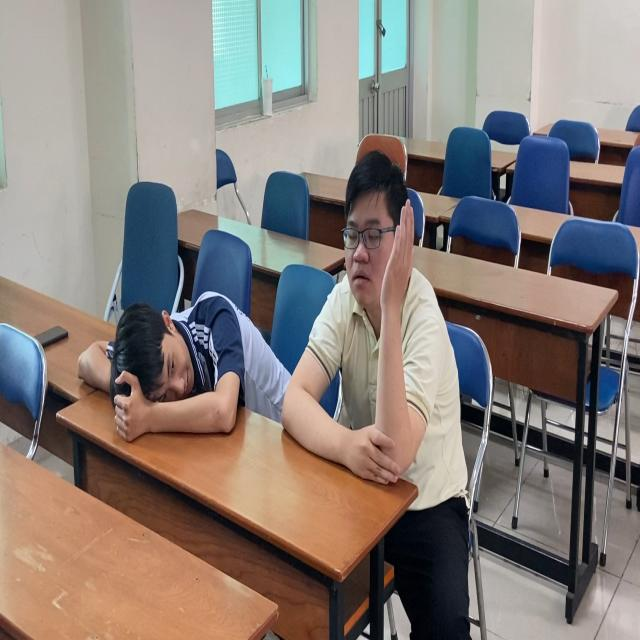raise_hand: (281, 150, 452, 495)
